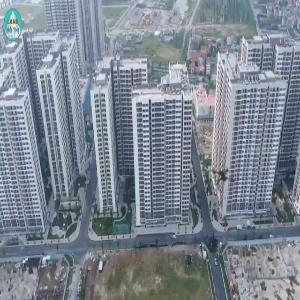drone: (188, 144, 259, 215)
